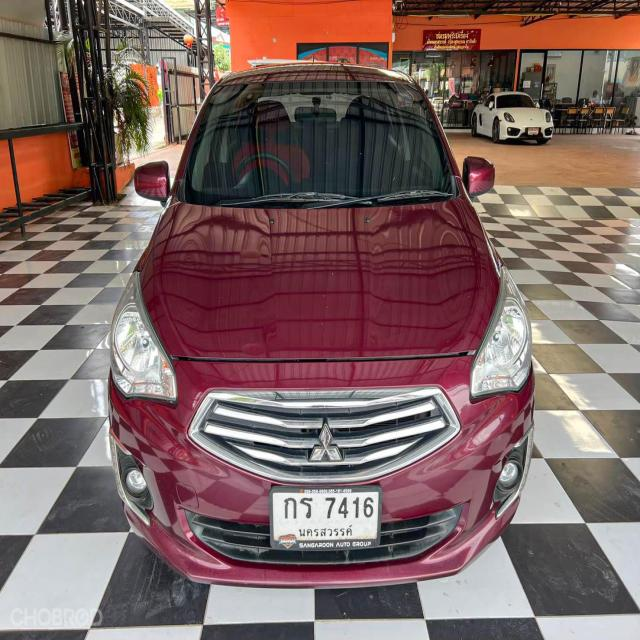license_plate: (269, 485, 380, 552)
